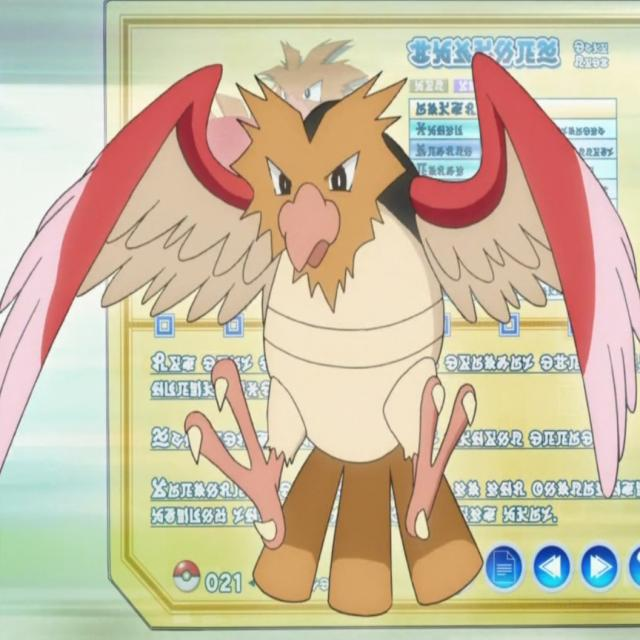Spearow: (110, 93, 549, 528)
